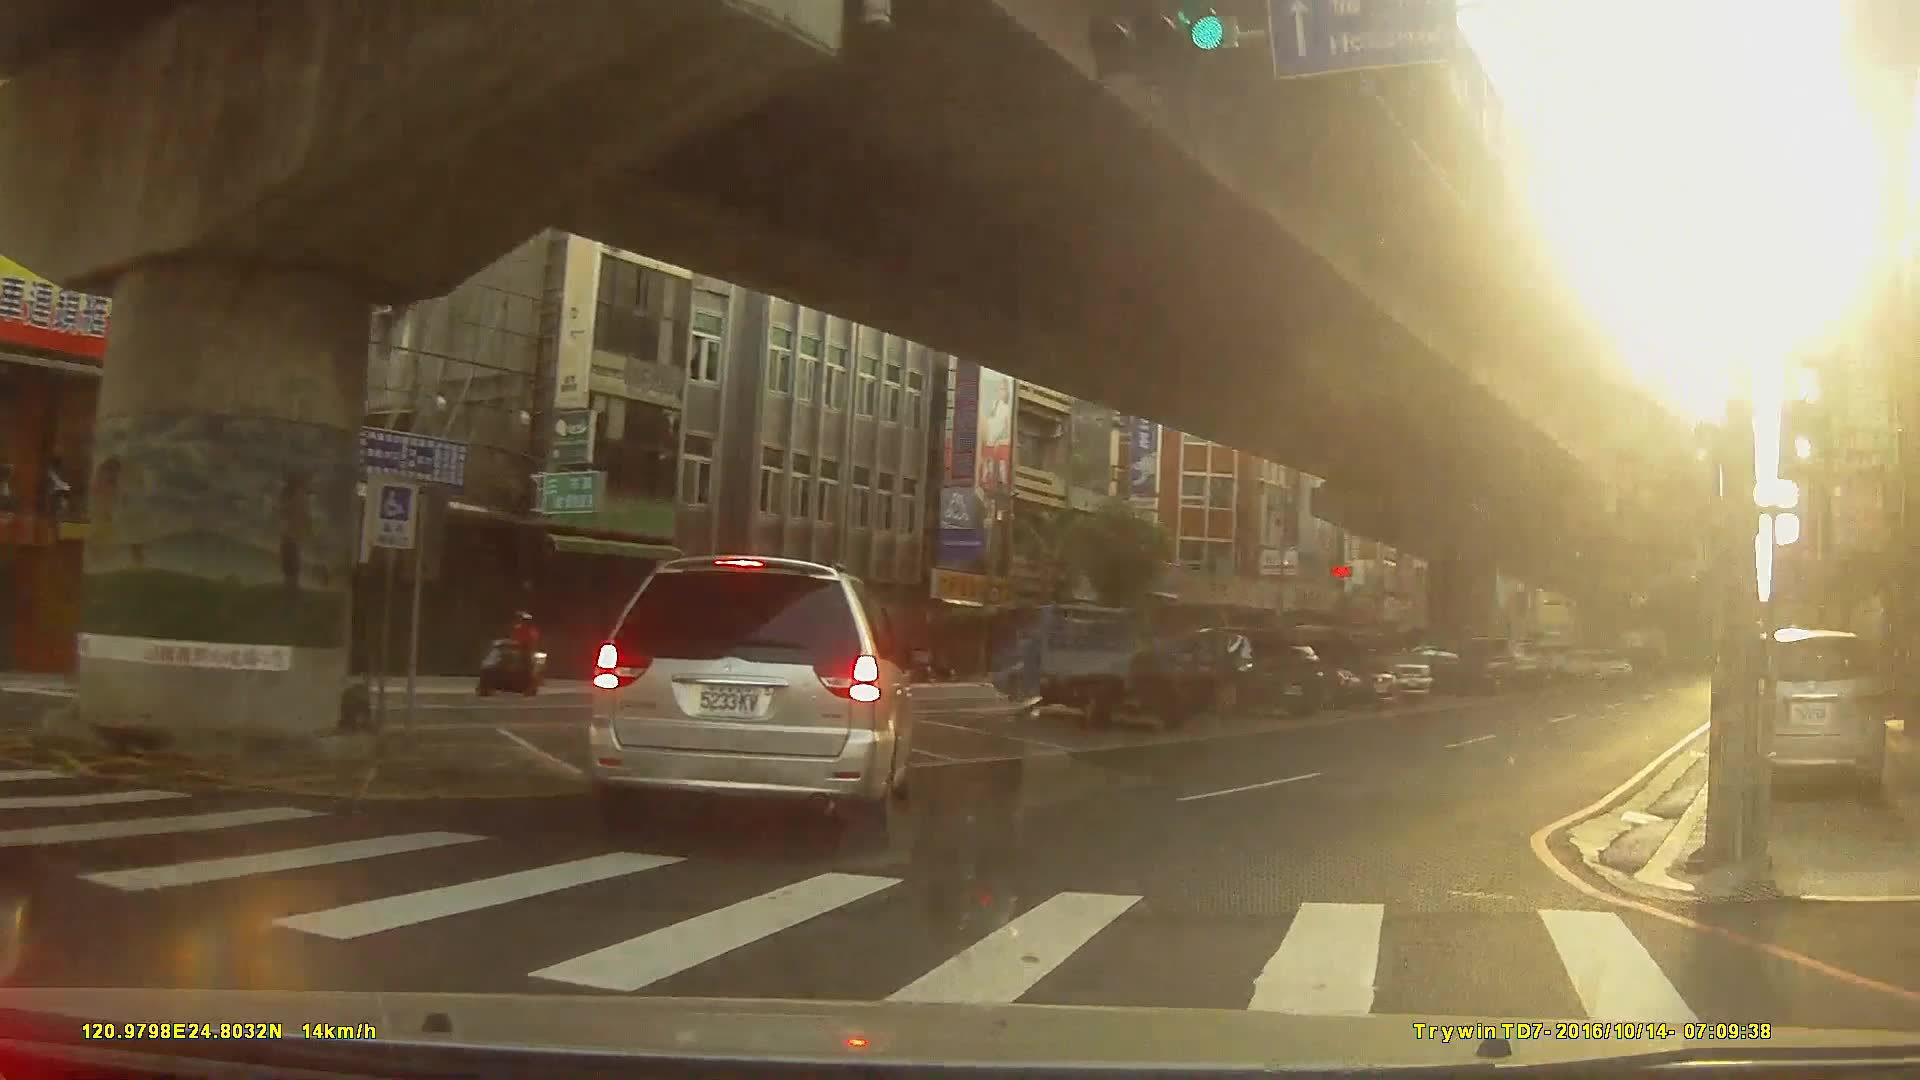rider: (479, 612, 548, 700)
vehicle: (587, 554, 915, 849), (1727, 626, 1886, 806), (991, 599, 1215, 723), (1157, 624, 1322, 717), (1245, 632, 1398, 709), (1385, 642, 1487, 694)
